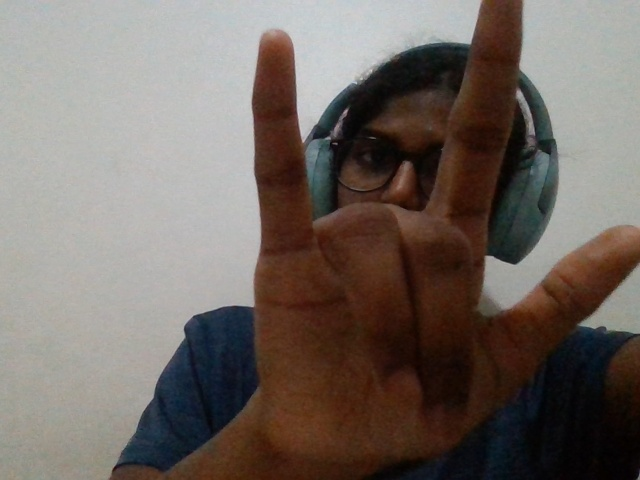I Love You: (216, 4, 640, 479)
